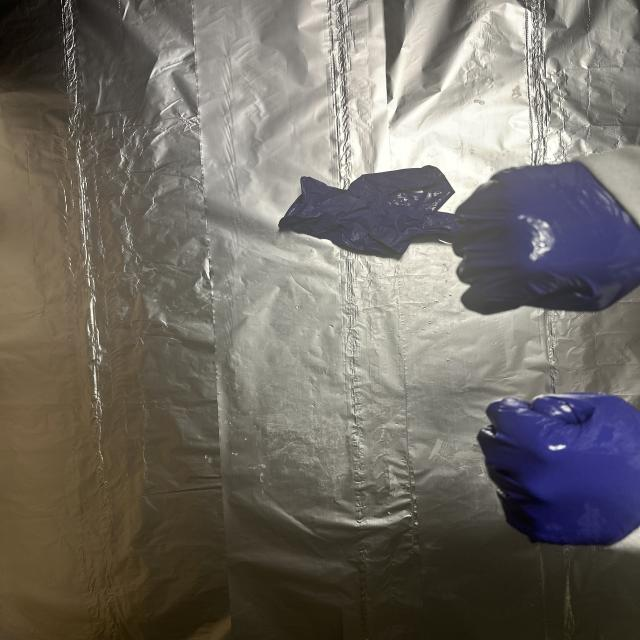gloves_contaminated: (454, 164, 640, 314), (479, 392, 640, 545)
